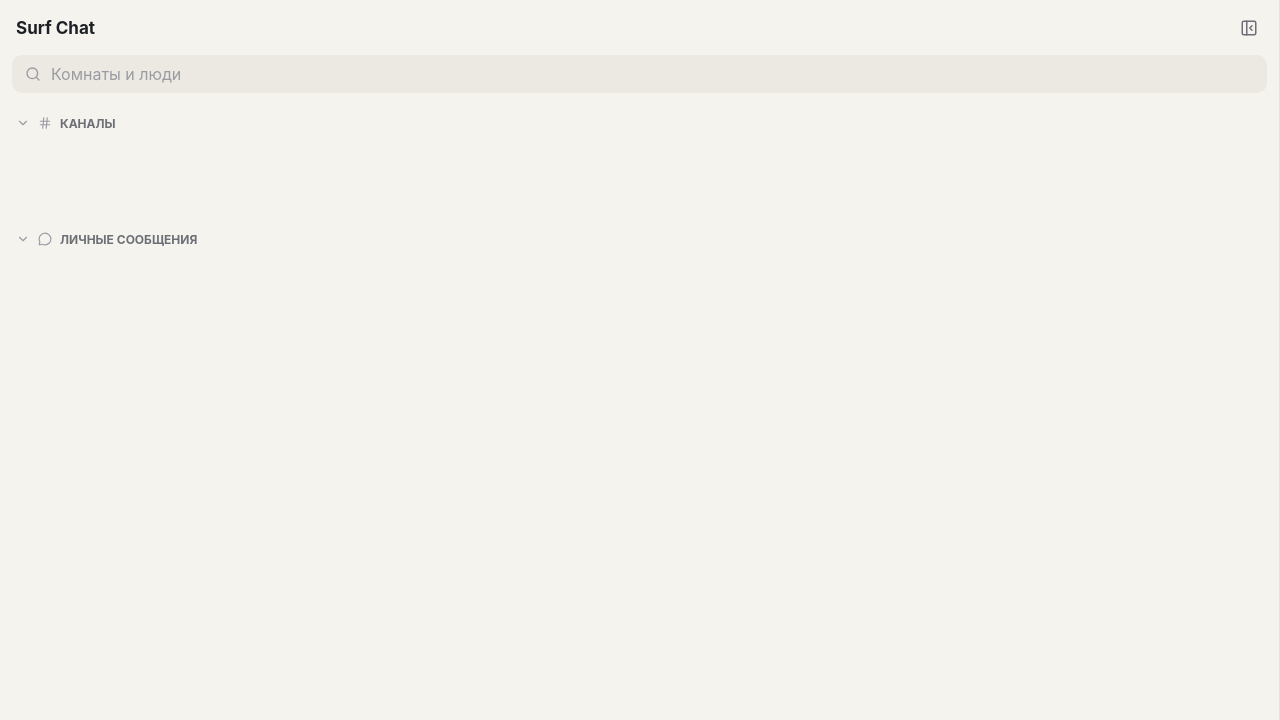
Test: RoomList section collapse › closes the channels section in the expanded sidebar
Click the button "Каналы".
click(88, 123)  # box 8,109 -> 1245,137
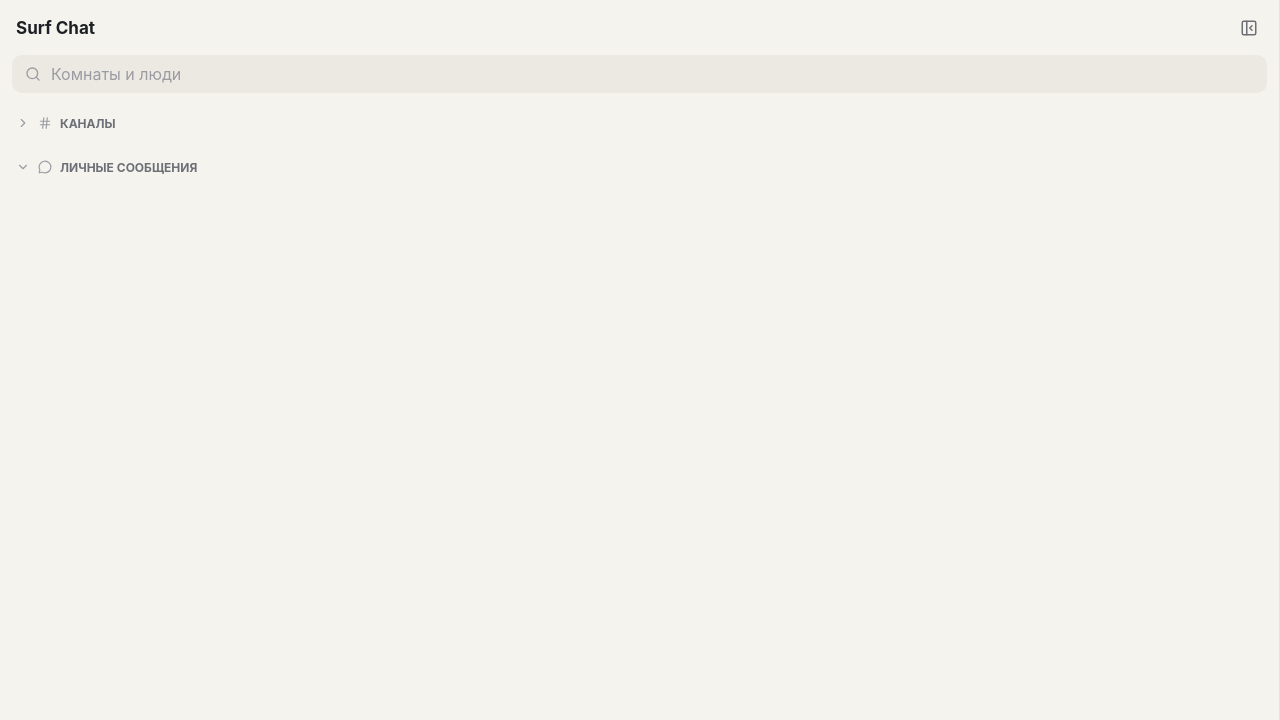
Result: the element with class "is-open" is gone
